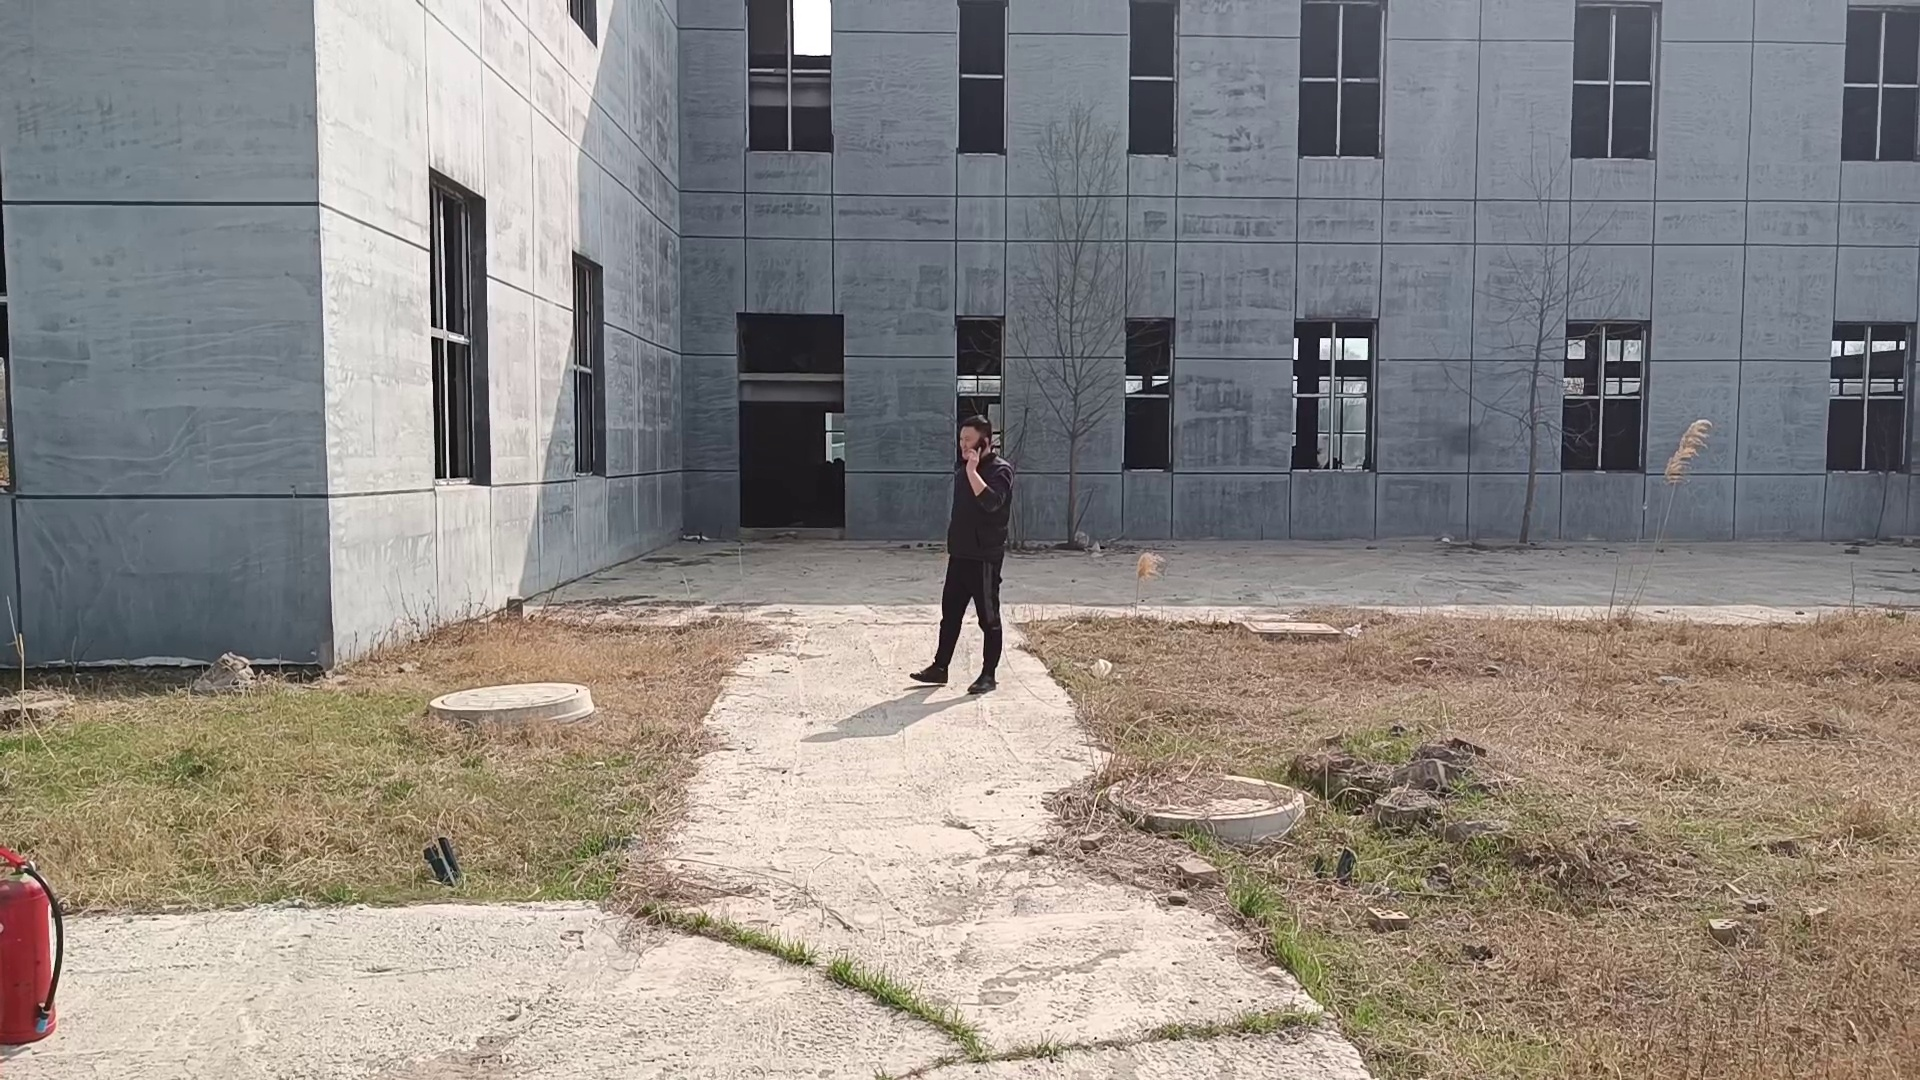phone: (952, 417, 1000, 473)
